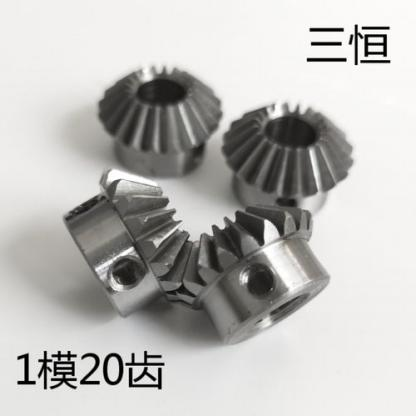FOD: (172, 200, 332, 349), (62, 169, 200, 317), (222, 96, 357, 210), (95, 63, 221, 178)
